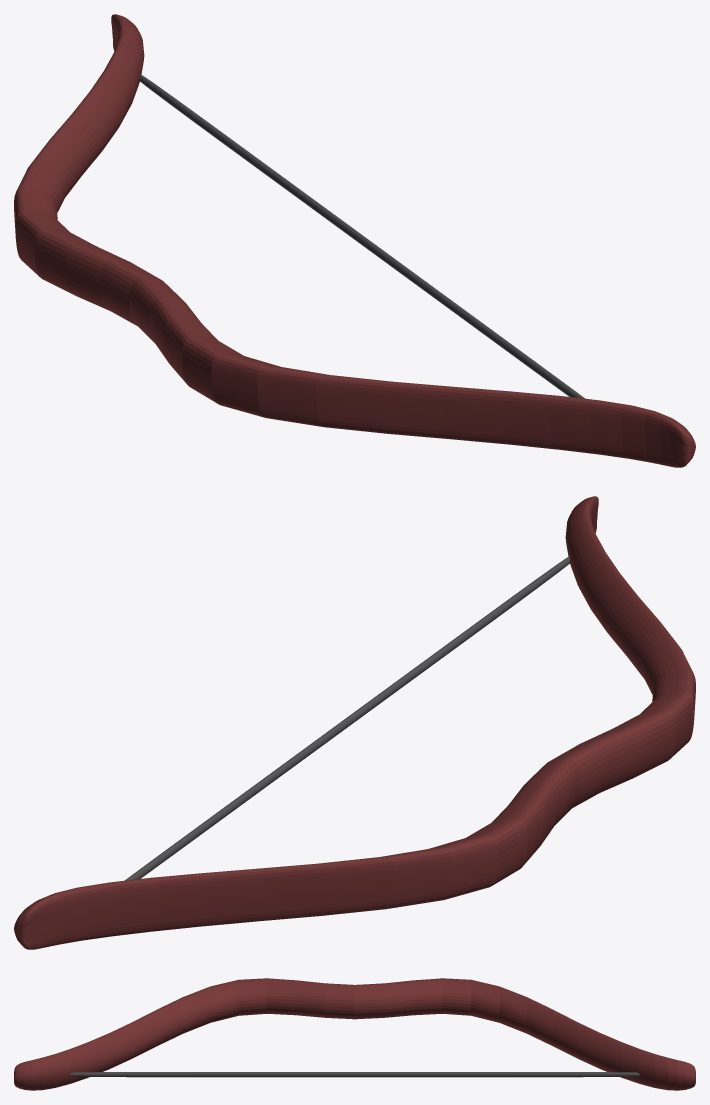
Rendered from bow.fbx.
The picture shows the model from 3 angles, top to bottom: view 1: azimuth 30°, elevation 25°; view 2: azimuth 150°, elevation 25°; view 3: azimuth 270°, elevation 25°; orthographic projection. The views are drawn at different scales.
Visible parts, largest first — view 1: Object_1, Object_2; view 2: Object_1, Object_2; view 3: Object_1, Object_2.
Part boxes in pixels (<box>): Object_1: <box>14,14,695,467</box>; Object_2: <box>139,74,584,398</box>; Object_1: <box>14,496,695,949</box>; Object_2: <box>125,556,570,880</box>; Object_1: <box>14,978,695,1090</box>; Object_2: <box>70,1072,639,1077</box>.
Bounding box in the file's own units: 14.64 × 47.87 × 2.65.
